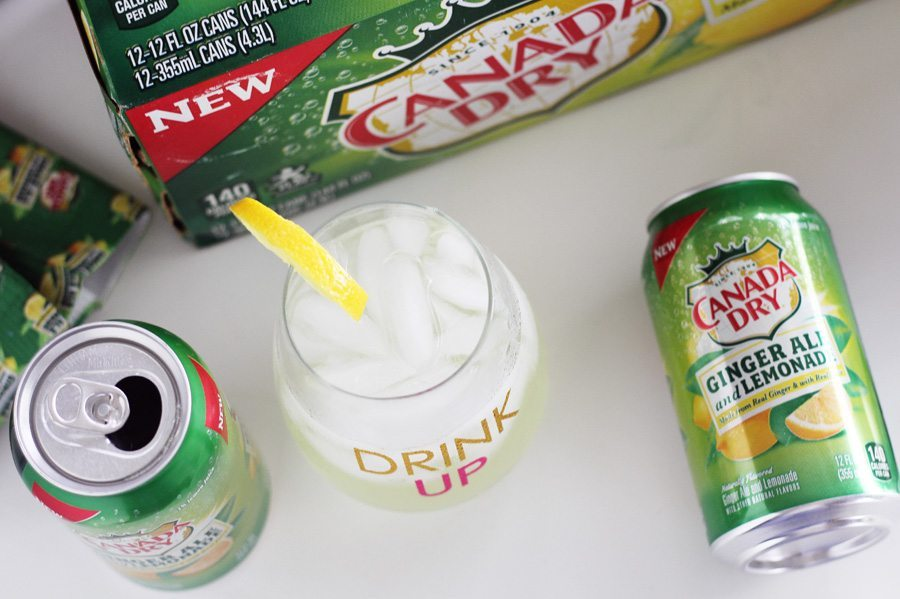Lata: (632, 167, 899, 577)
